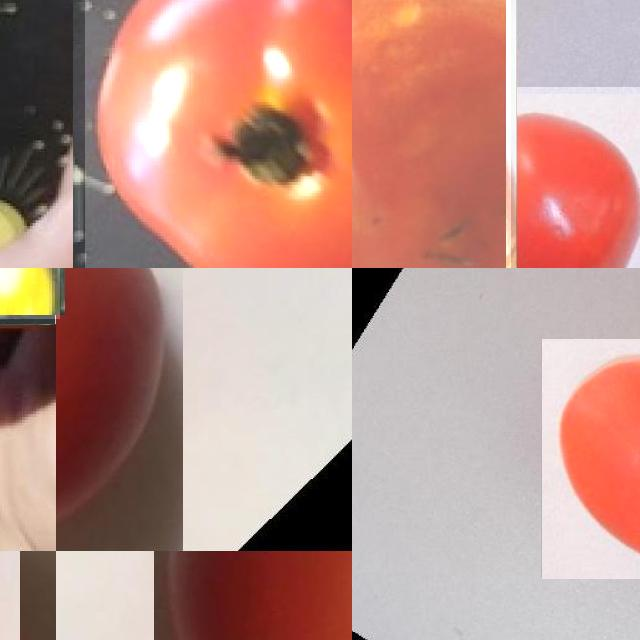0: (85, 0, 352, 268), (56, 268, 182, 551), (154, 551, 352, 640)
Fresh Tomato: (542, 339, 640, 578), (517, 87, 640, 268)
Rotten Tomato: (352, 0, 511, 268)
